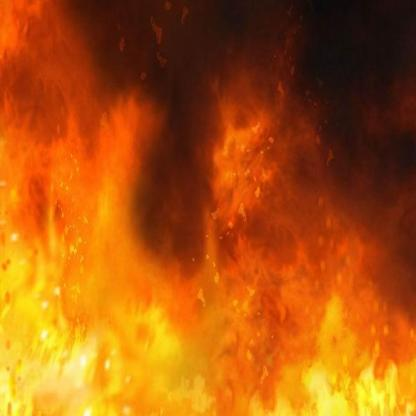fire: (1, 1, 413, 413)
